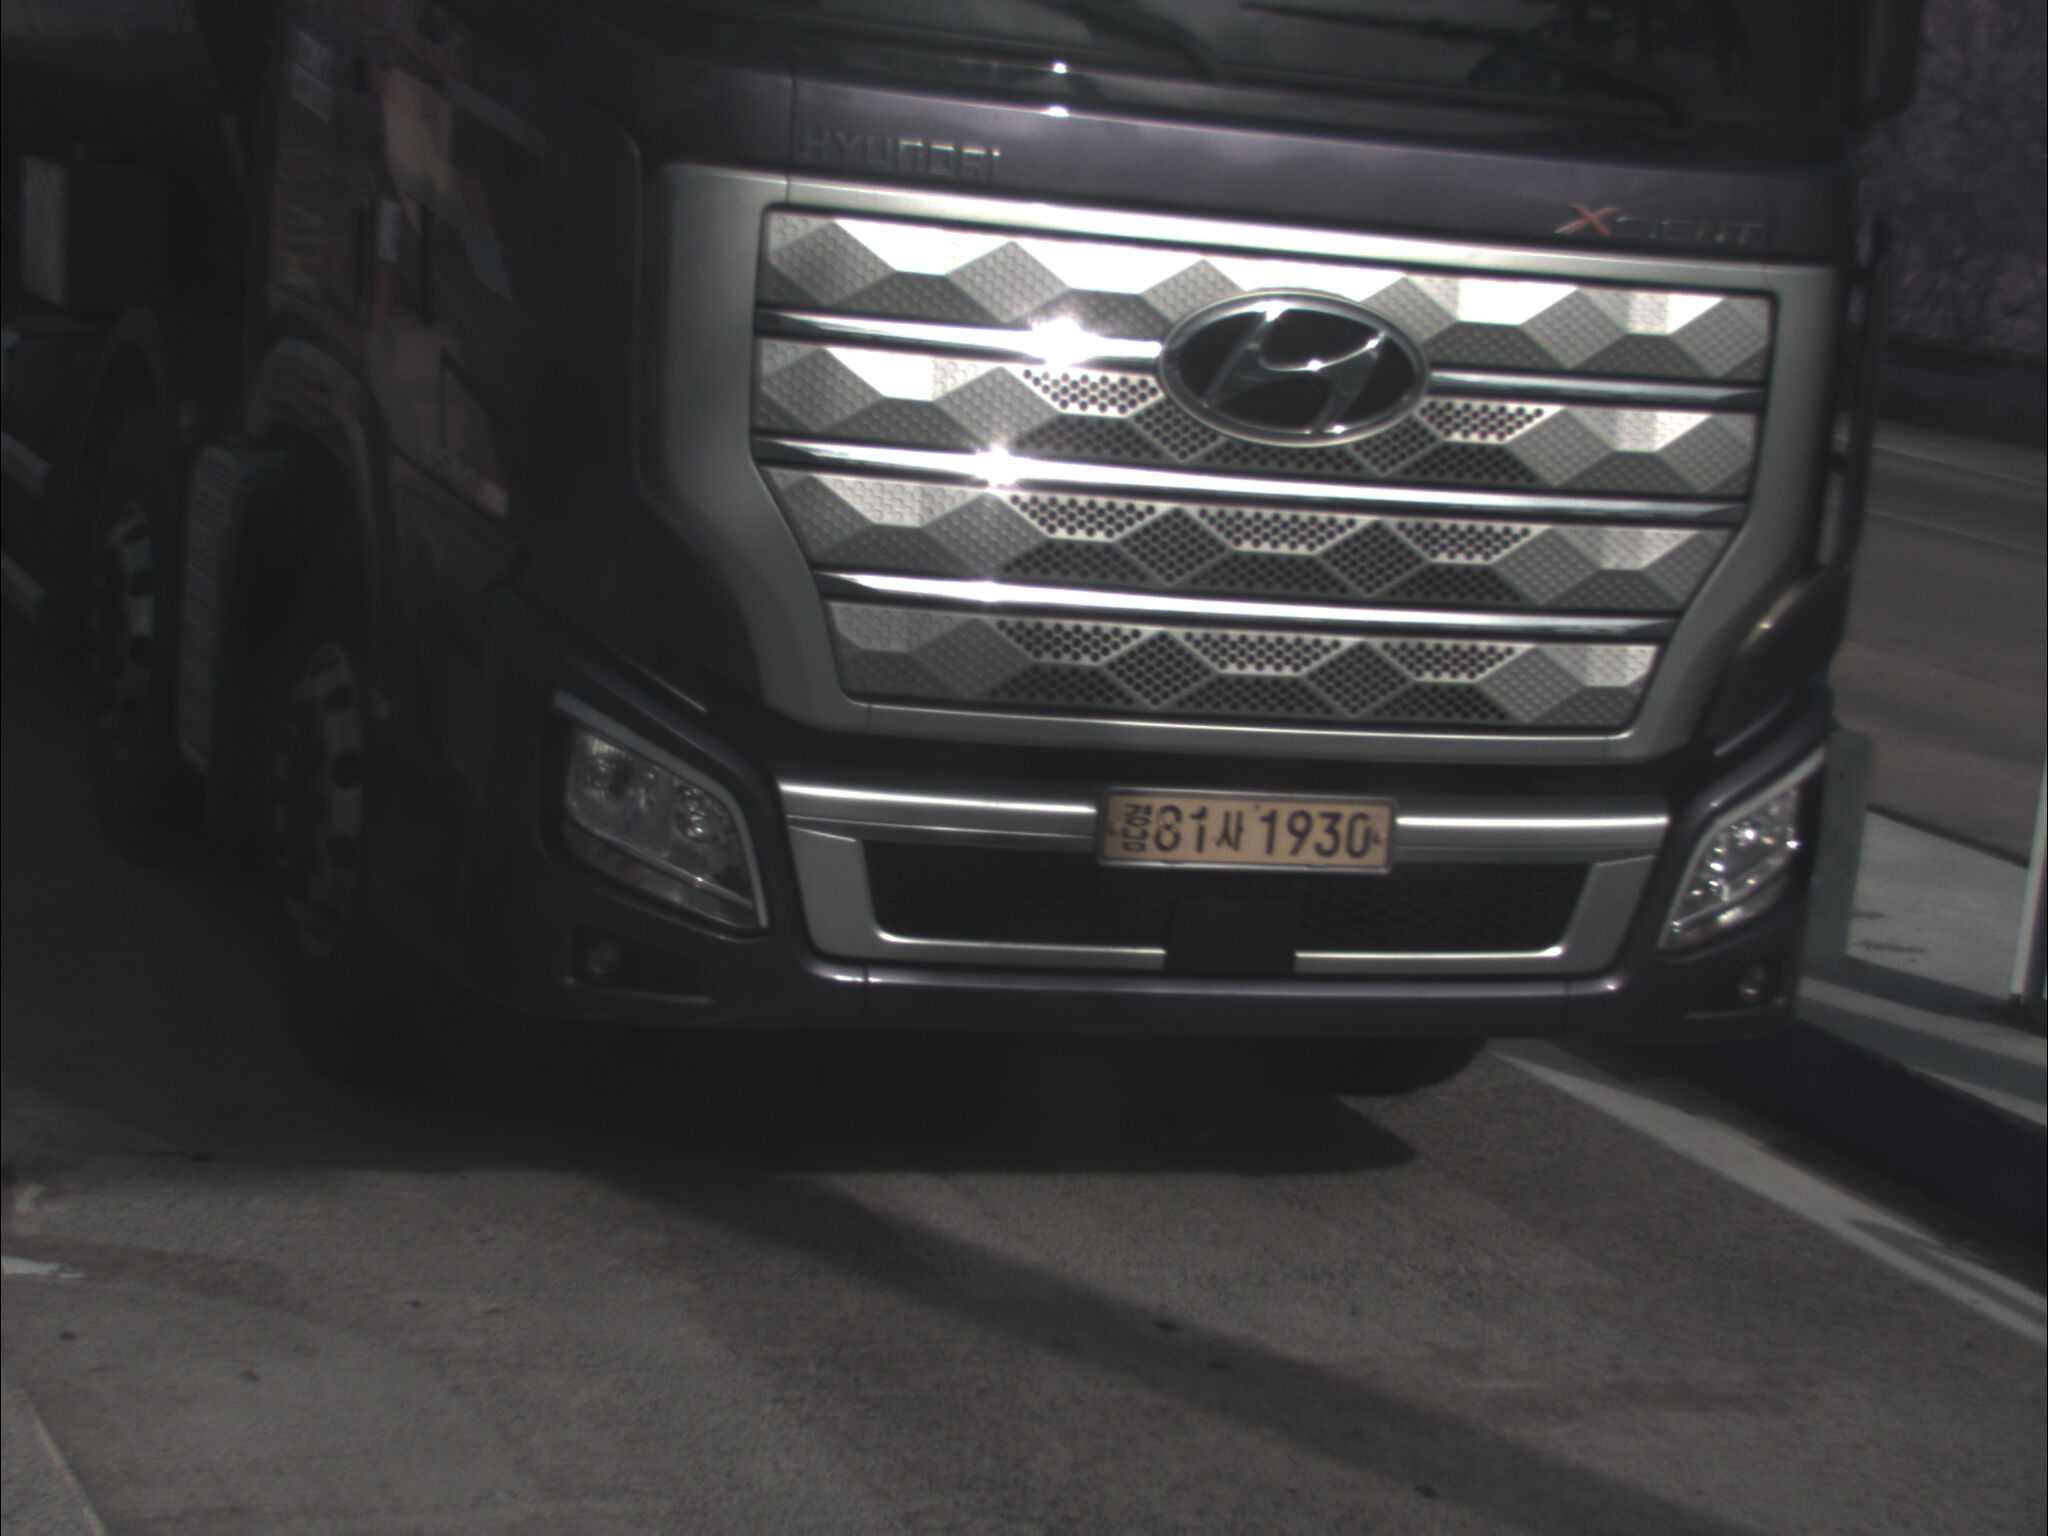car: (1, 1, 1921, 1131)
plate: (1092, 780, 1402, 881)
